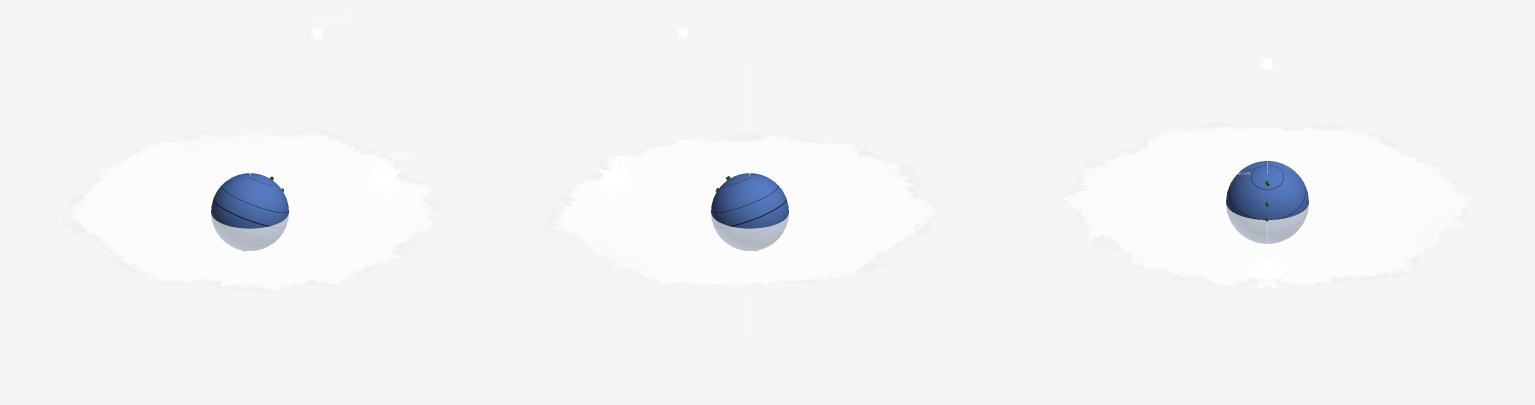
The model's file is summer_solstice.glb.
The picture shows the model from 3 angles, left to right: view 1: azimuth 30°, elevation 25°; view 2: azimuth 150°, elevation 25°; view 3: azimuth 270°, elevation 25°; orthographic projection. The views are drawn at different scales.
Parts seen in each view (by area): view 1: Ecliptic, Earth, Sun; view 2: Ecliptic, Earth, Sun; view 3: Ecliptic, Earth, Sun.
Part boxes in pixels (box(x1,y1,x2,y2)): Ecliptic: box(64, 61, 437, 349); Earth: box(211, 173, 288, 250); Sun: box(370, 160, 400, 197); Ecliptic: box(545, 61, 939, 349); Earth: box(711, 173, 788, 250); Sun: box(599, 160, 629, 197); Ecliptic: box(1059, 41, 1473, 335); Earth: box(1226, 161, 1308, 243); Sun: box(1248, 255, 1286, 289).
Bounding box in the file's own units: 2.12 × 1.74 × 2.12.
Materials: 7 (2 with a texture image).
